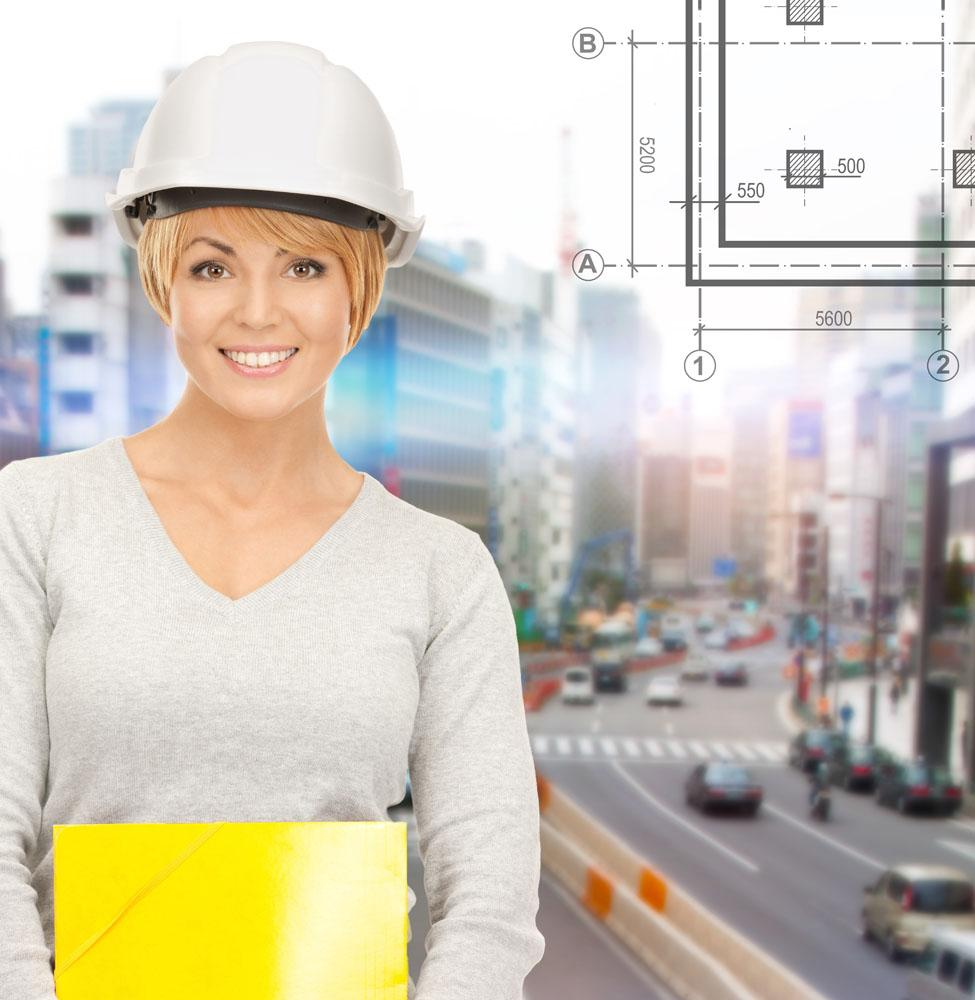helmet: (121, 37, 411, 249)
